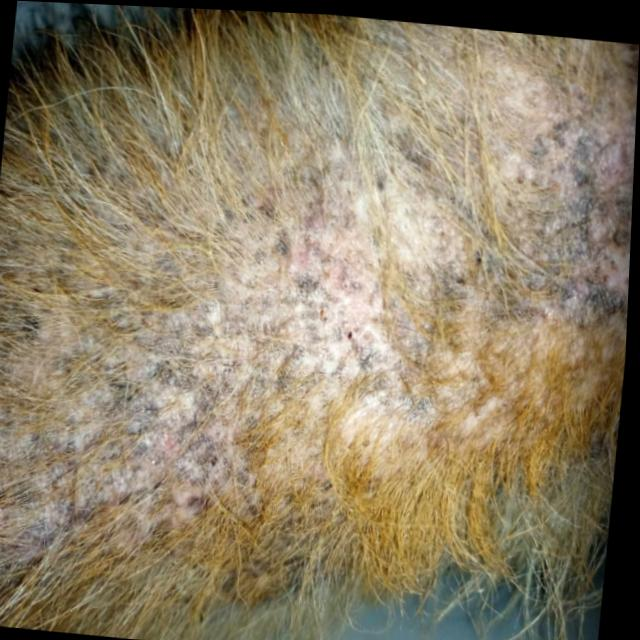demodicosis: (241, 55, 623, 504), (43, 289, 224, 548)
